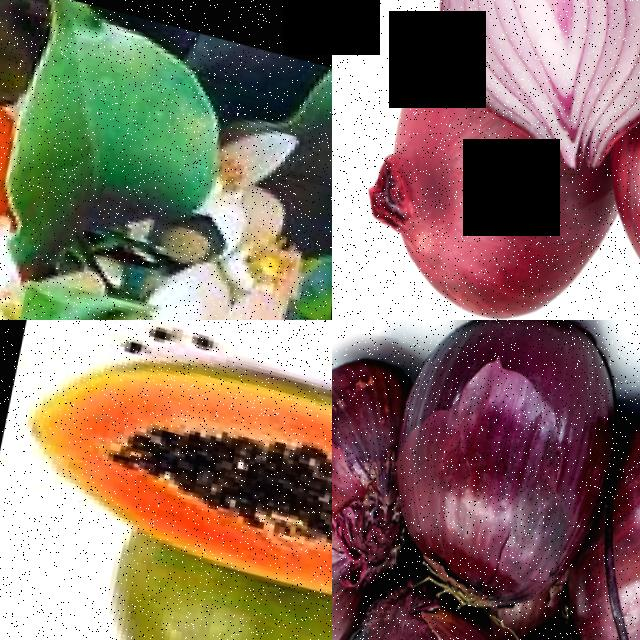onion: (374, 320, 634, 626), (351, 88, 621, 320), (422, 0, 640, 125), (332, 330, 416, 640), (567, 382, 640, 640)
pawpaw: (21, 326, 332, 638), (72, 534, 332, 640)
